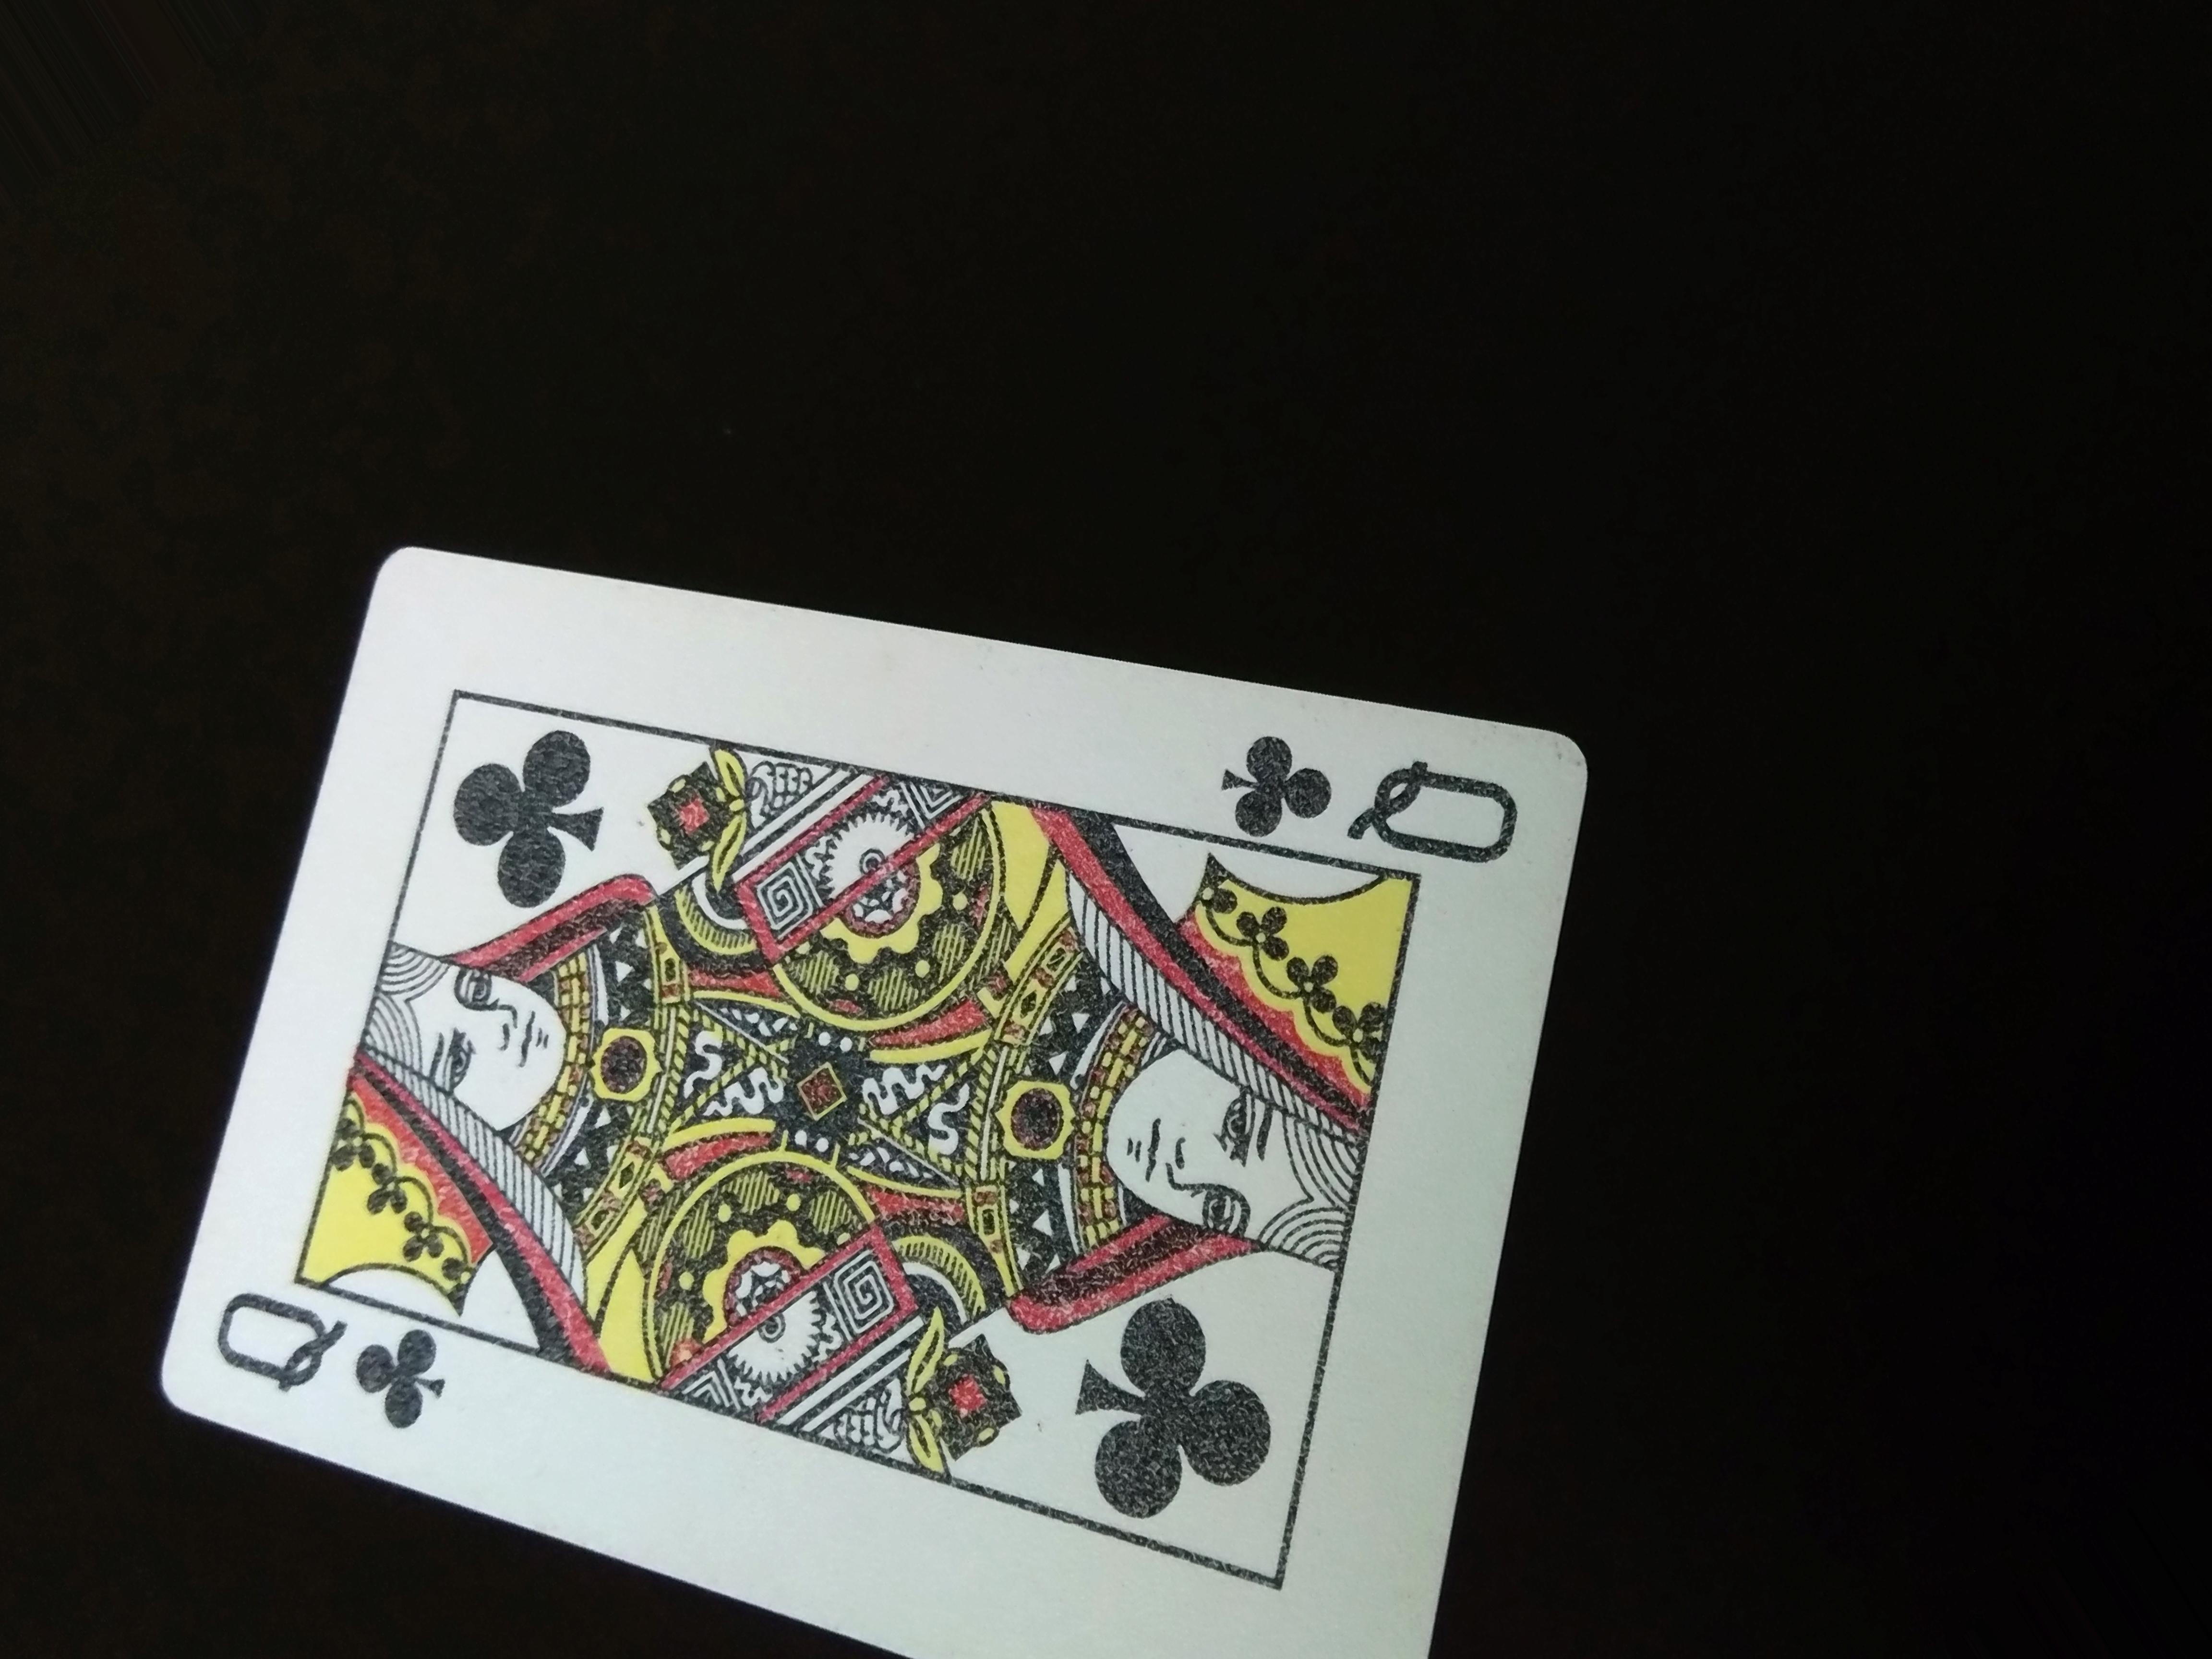QC: (1181, 701, 1541, 873)
